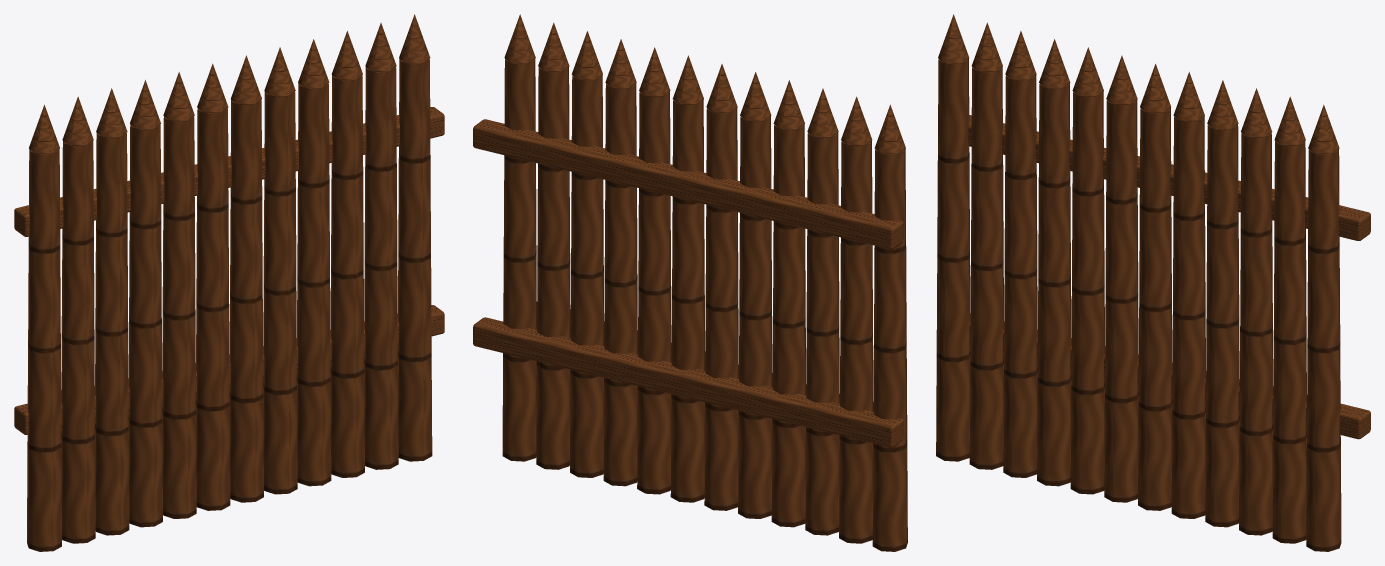
Rendered from prehistoric-survivor-settlement-pole-palisade-0d15f2d0__23197.glb.
The picture shows the model from 3 angles, left to right: view 1: azimuth 30°, elevation 25°; view 2: azimuth 150°, elevation 25°; view 3: azimuth 330°, elevation 25°; orthographic projection.
Parts seen in each view (by area): view 1: pole-palisade; view 2: pole-palisade; view 3: pole-palisade.
Part boxes in pixels (x1,y1,x2,y2): pole-palisade: (14, 14, 444, 551); pole-palisade: (473, 14, 907, 551); pole-palisade: (936, 14, 1370, 551).
Size of the model in its own units: 2 by 2 by 0.1951.
Materials: 1 (1 with a texture image).
